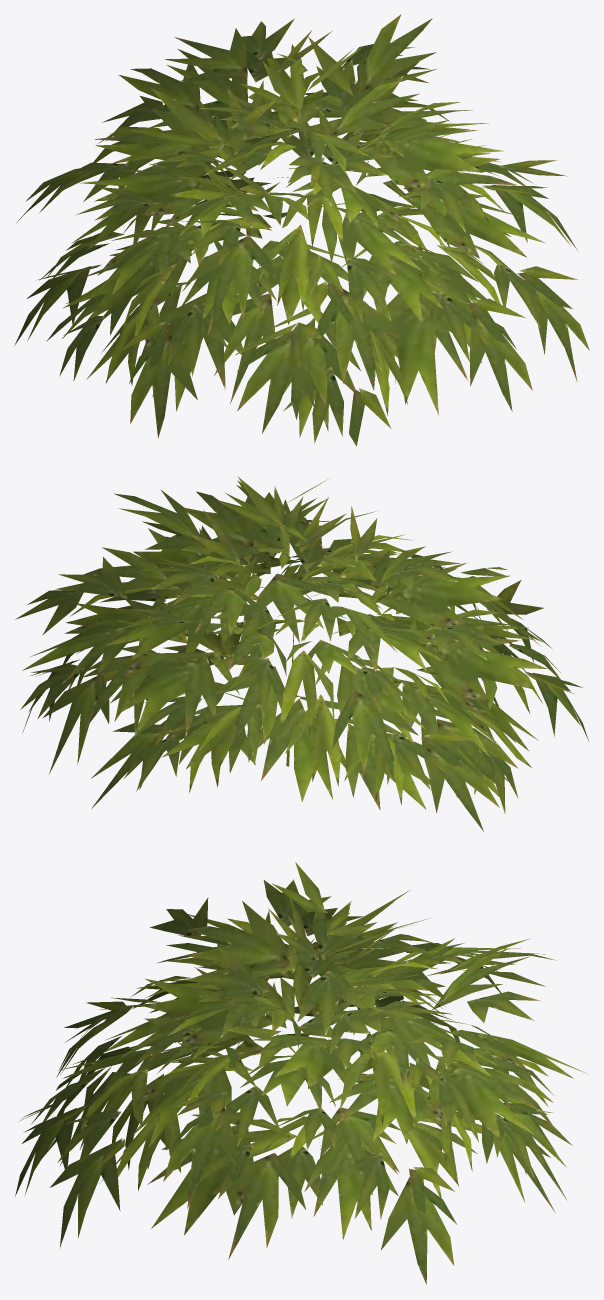
The model's file is SM_Plant_Bush_Bamboo_01_f32f5b.glb.
3 views of the same model, one above another, from view 1: azimuth 30°, elevation 25°; view 2: azimuth 150°, elevation 25°; view 3: azimuth 270°, elevation 25° (orthographic). The views are drawn at different scales.
Bounding box in the file's own units: 1.36 × 0.824 × 1.41.
1 material, 1 textured.
